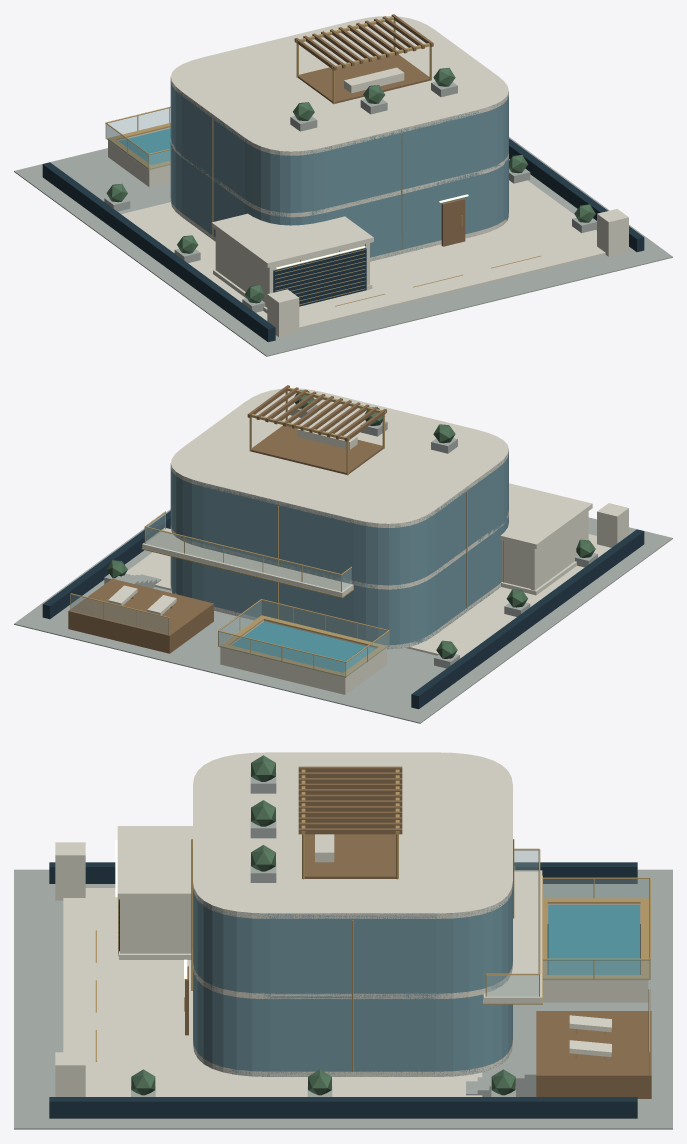
The model's file is arc-pavilion.glb.
3 views of the same model, one above another, from view 1: azimuth 30°, elevation 25°; view 2: azimuth 150°, elevation 25°; view 3: azimuth 270°, elevation 25° (orthographic). The views are drawn at different scales.
Parts seen in each view (by area): view 1: RV-02-ivory, RV-02-glazing, RV-02-stone, RV-02-dark, RV-02-wood, RV-02-gold, RV-02-leaf, RV-02-glass, RV-02-water; view 2: RV-02-ivory, RV-02-glazing, RV-02-stone, RV-02-wood, RV-02-glass, RV-02-dark, RV-02-gold, RV-02-water, RV-02-leaf; view 3: RV-02-ivory, RV-02-glazing, RV-02-stone, RV-02-wood, RV-02-dark, RV-02-water, RV-02-gold, RV-02-glass, RV-02-leaf.
Boxes of the visible parts, left/top/right/bottom form: RV-02-ivory: left=108, top=16, right=628, bottom=337; RV-02-glazing: left=170, top=80, right=508, bottom=260; RV-02-stone: left=14, top=81, right=672, bottom=356; RV-02-dark: left=42, top=138, right=644, bottom=342; RV-02-wood: left=294, top=14, right=465, bottom=246; RV-02-gold: left=105, top=16, right=541, bottom=306; RV-02-leaf: left=106, top=67, right=595, bottom=303; RV-02-glass: left=106, top=108, right=170, bottom=169; RV-02-water: left=119, top=128, right=170, bottom=164; RV-02-ivory: left=108, top=388, right=628, bottom=694; RV-02-glazing: left=170, top=452, right=508, bottom=649; RV-02-stone: left=14, top=404, right=672, bottom=723; RV-02-wood: left=68, top=385, right=386, bottom=653; RV-02-glass: left=70, top=513, right=388, bottom=677; RV-02-dark: left=42, top=511, right=644, bottom=709; RV-02-gold: left=70, top=387, right=504, bottom=677; RV-02-water: left=231, top=621, right=375, bottom=672; RV-02-leaf: left=106, top=390, right=595, bottom=658; RV-02-ivory: left=55, top=752, right=648, bottom=1096; RV-02-glazing: left=193, top=884, right=512, bottom=1076; RV-02-stone: left=14, top=773, right=672, bottom=1129; RV-02-wood: left=185, top=766, right=651, bottom=1098; RV-02-dark: left=49, top=862, right=640, bottom=1118; RV-02-water: left=548, top=905, right=639, bottom=974; RV-02-gold: left=95, top=769, right=650, bottom=1074; RV-02-glass: left=486, top=850, right=649, bottom=996; RV-02-leaf: left=131, top=755, right=515, bottom=1095.
Bounding box in the file's own units: 26 × 10.17 × 28.
